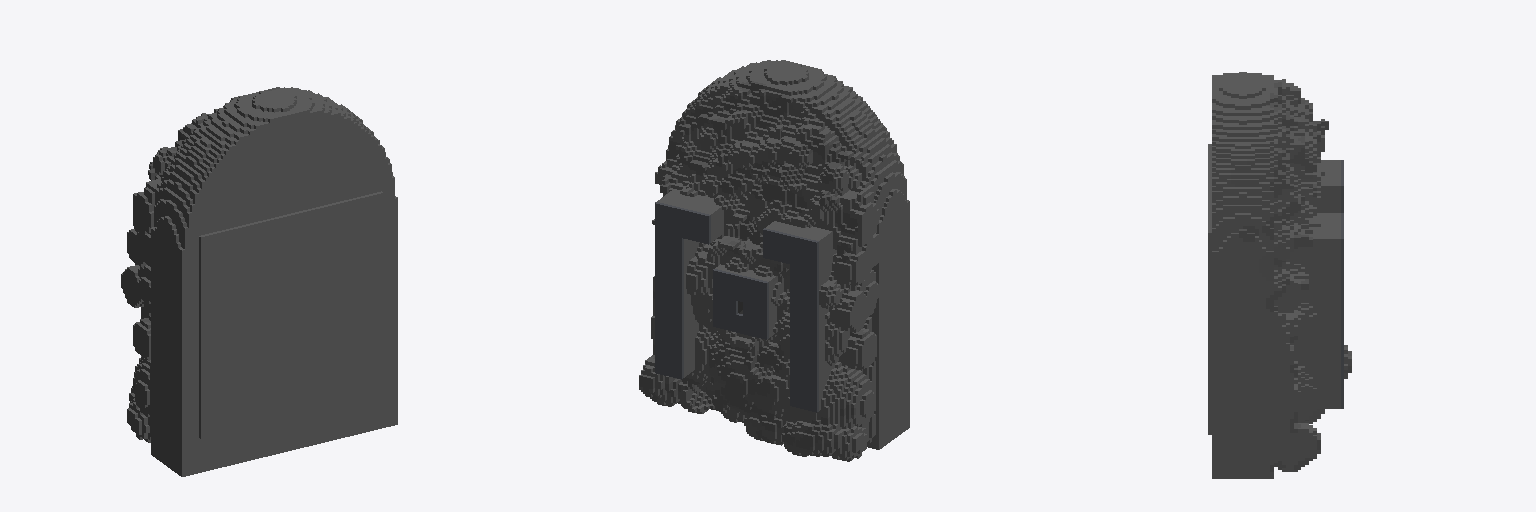
3 renders of one model, left to right at view 1: azimuth 30°, elevation 25°; view 2: azimuth 150°, elevation 25°; view 3: azimuth 270°, elevation 25°, orthographic.
Visible parts, largest first — view 1: object 1; view 2: object 1; view 3: object 1.
Boxes of the visible parts, x1=… form: object 1: x1=121, y1=87, x2=397, y2=476; object 1: x1=639, y1=60, x2=909, y2=461; object 1: x1=1208, y1=72, x2=1351, y2=478.
Bounding box in the file's own units: 6.4 × 9.6 × 3.7.
Materials: 1 (1 with a texture image).